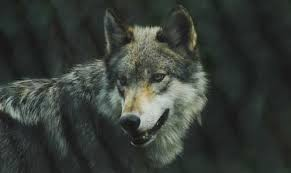wolf: (1, 19, 203, 162)
